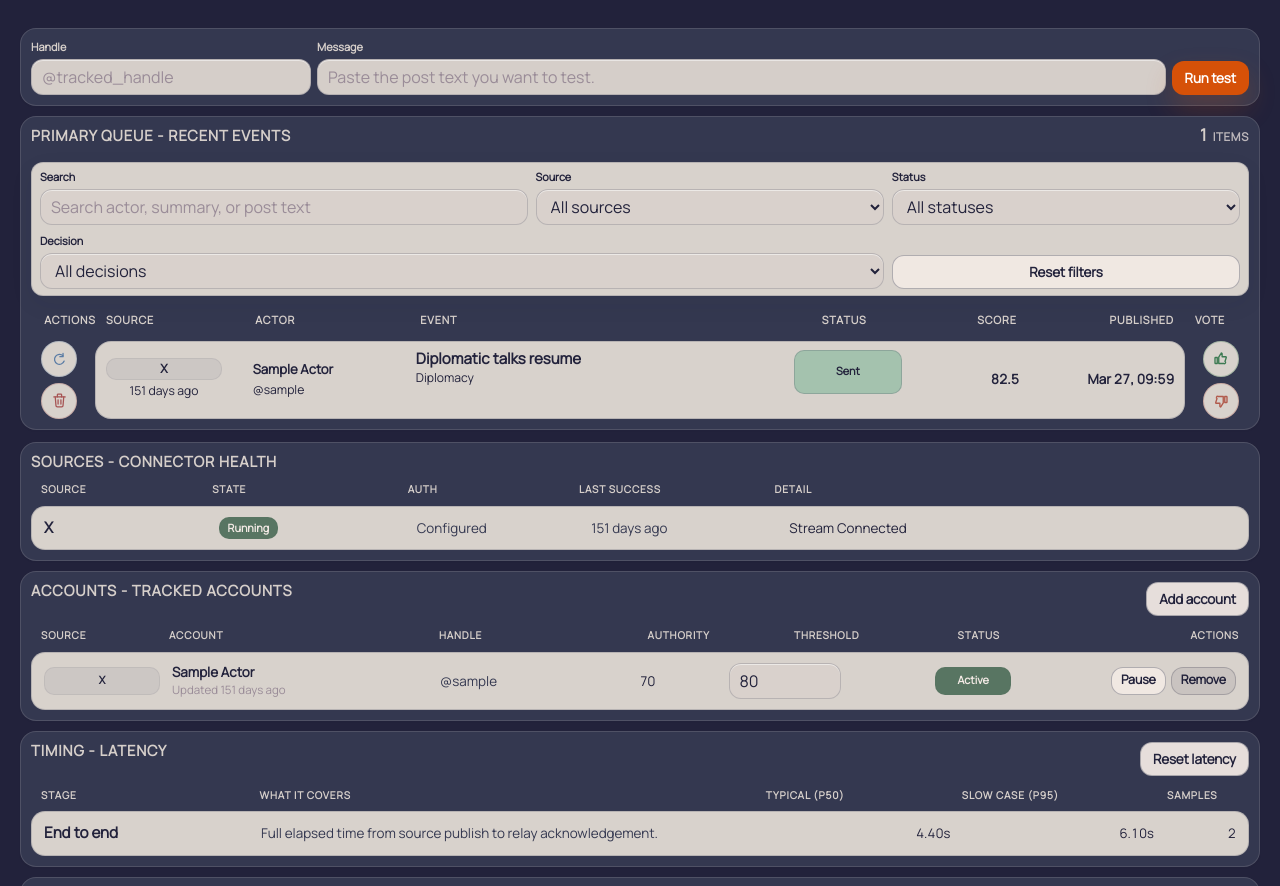
Test: renders events and opens inspector content
This screenshot has width=1280, height=886.
Expected: the heading "Primary queue - Recent events" is shown, [31,127,291,145]
Expected: the heading "Diplomatic talks resume" is shown, [416,348,581,368]
Click the button "Diplomatic talks resume" at coordinates (164, 369), box [95,340,1185,418]
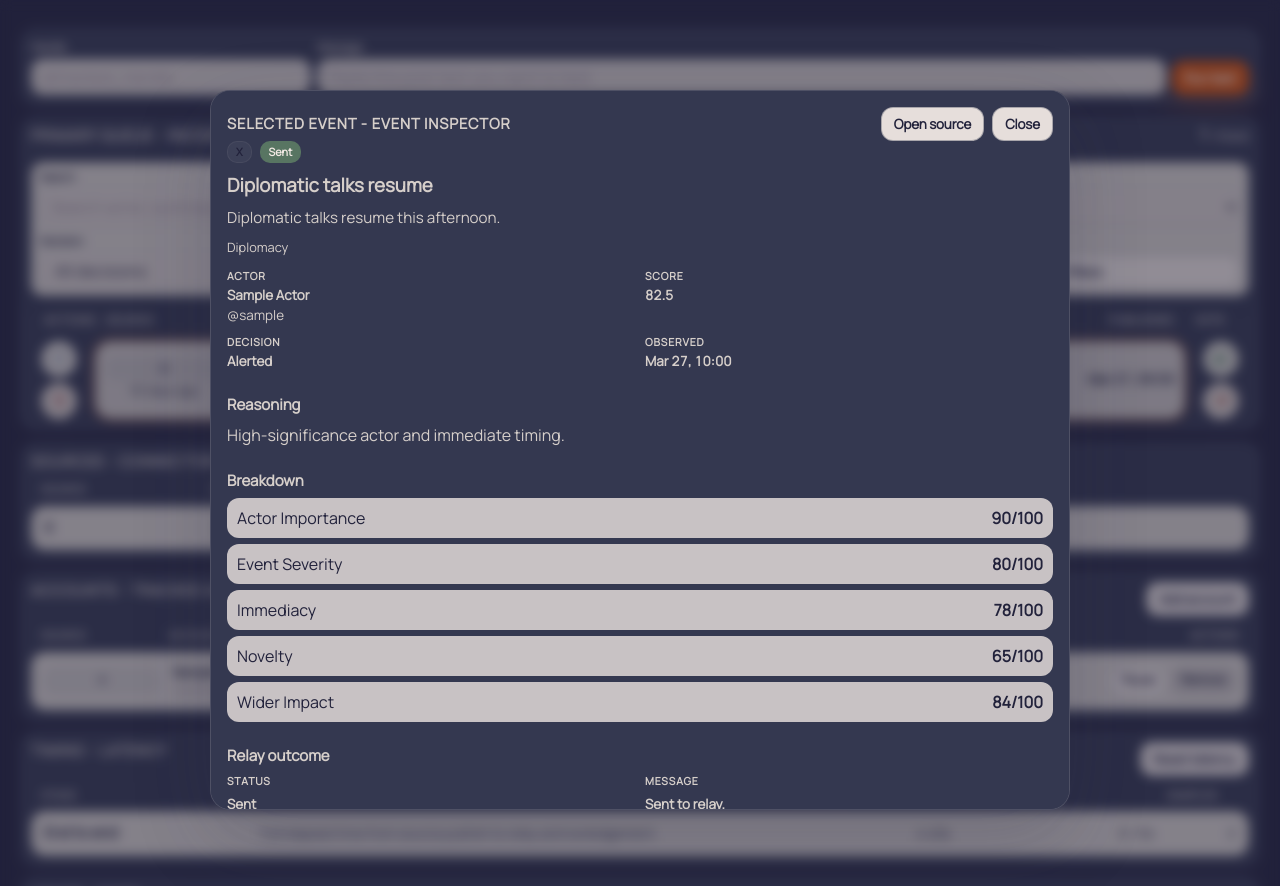
Expected: the heading "Selected event - Event inspector" is shown, [227,115,511,133]
Expected: the text "High-significance actor and immediate timing." is shown, [227,424,565,446]
